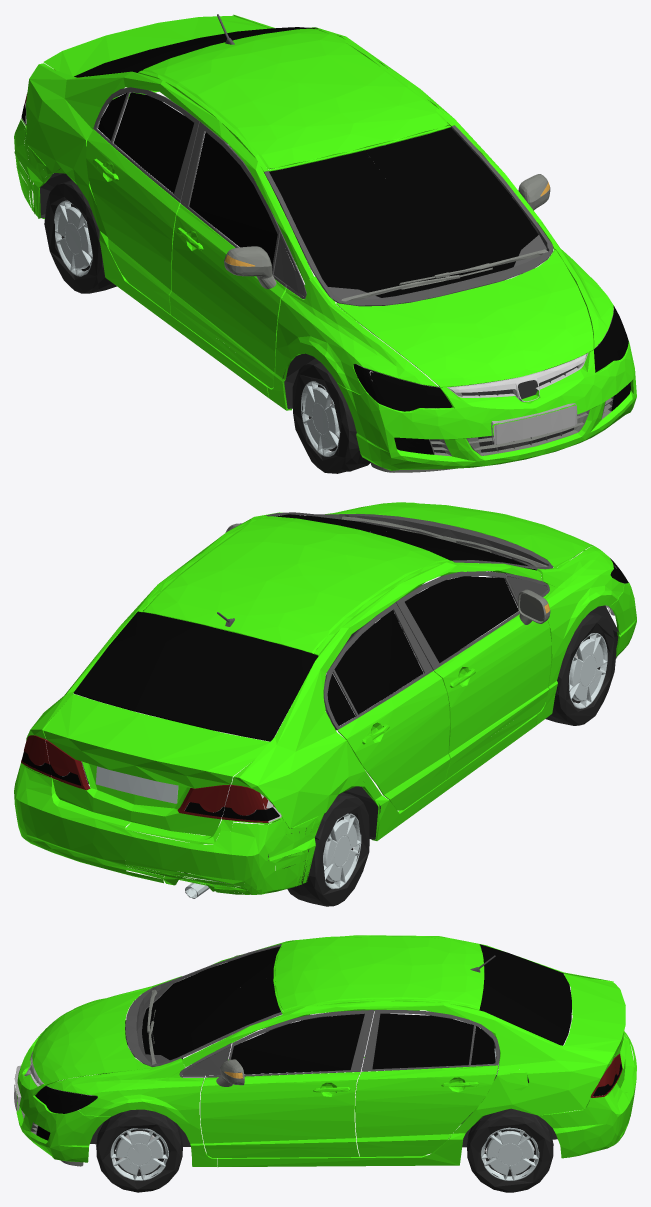
The model's file is car_green.gltf.
3 renders of one model, top to bottom at view 1: azimuth 30°, elevation 25°; view 2: azimuth 150°, elevation 25°; view 3: azimuth 270°, elevation 25°, orthographic. The views are drawn at different scales.
Parts seen in each view (by area): view 1: Obj_66, Obj_67, Obj_65, Obj_63, Obj_58, Obj_64, Obj_000022, Obj_32, Obj_47, Obj_45, Obj_28, Obj_000020 (+4 smaller); view 2: Obj_66, Obj_65, Obj_67, Obj_58, Obj_64, Obj_56, Obj_47, Obj_32, Obj_63, Obj_50, Obj_42, Obj_45 (+1 smaller); view 3: Obj_66, Obj_67, Obj_65, Obj_44, Obj_29, Obj_64, Obj_57, Obj_63, Obj_58, Obj_000022, Obj_36, Obj_28 (+2 smaller).
Part boxes in pixels (x1,y1,x2,y2): Obj_66: [14, 28, 636, 470]; Obj_67: [74, 27, 538, 297]; Obj_65: [14, 14, 541, 397]; Obj_63: [264, 125, 552, 306]; Obj_58: [54, 200, 340, 456]; Obj_64: [93, 87, 531, 298]; Obj_000022: [353, 305, 628, 411]; Obj_32: [292, 360, 370, 473]; Obj_47: [44, 180, 116, 293]; Obj_45: [40, 168, 608, 453]; Obj_28: [224, 174, 550, 289]; Obj_000020: [491, 403, 577, 444]; Obj_66: [14, 502, 636, 894]; Obj_65: [26, 512, 541, 894]; Obj_67: [73, 514, 536, 741]; Obj_58: [323, 633, 607, 888]; Obj_64: [323, 571, 549, 730]; Obj_56: [21, 735, 279, 822]; Obj_47: [284, 792, 369, 906]; Obj_32: [545, 612, 616, 725]; Obj_63: [265, 512, 553, 569]; Obj_50: [95, 766, 178, 803]; Obj_42: [21, 751, 279, 820]; Obj_45: [181, 595, 620, 877]; Obj_66: [16, 935, 636, 1166]; Obj_67: [142, 944, 571, 1074]; Obj_65: [182, 935, 634, 1166]; Obj_44: [466, 1108, 553, 1192]; Obj_29: [96, 1109, 182, 1192]; Obj_64: [179, 1010, 499, 1077]; Obj_57: [110, 1127, 539, 1180]; Obj_63: [125, 943, 281, 1066]; Obj_58: [118, 1128, 168, 1180]; Obj_000022: [35, 1086, 97, 1113]; Obj_36: [182, 1046, 230, 1075]; Obj_28: [216, 955, 244, 1086].
Size of the model in its own units: 2.03 by 1.51 by 4.52.
